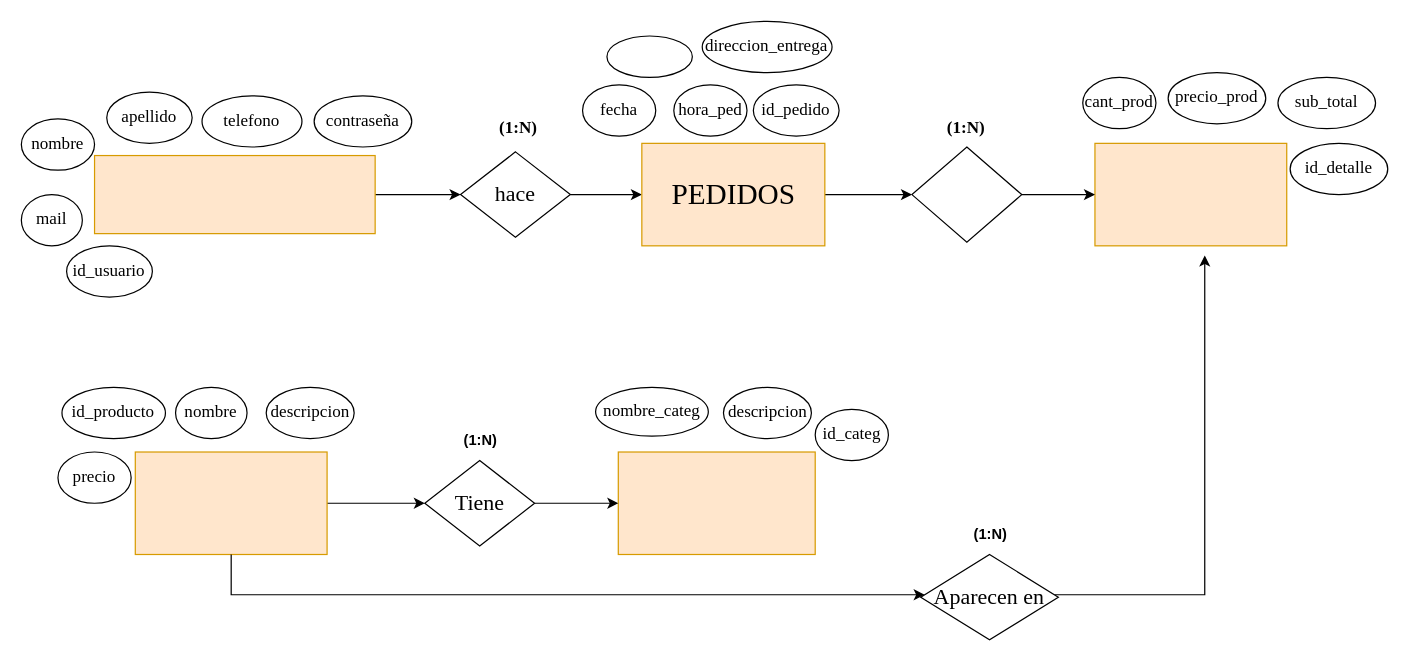
This 1409x661 diagram has some shape labels left out. The shapes that lost their labels are listed below. From the top down, each one's centre as x and y in pixels, then its label:
(x=649, y=56): total
(x=234, y=194): USUARIO
(x=966, y=194): estan
(x=1190, y=194): DETALLE_ PEDIDO
(x=230, y=502): PRODUCTOS
(x=716, y=502): CATEGORIA_ PRODUCTO
